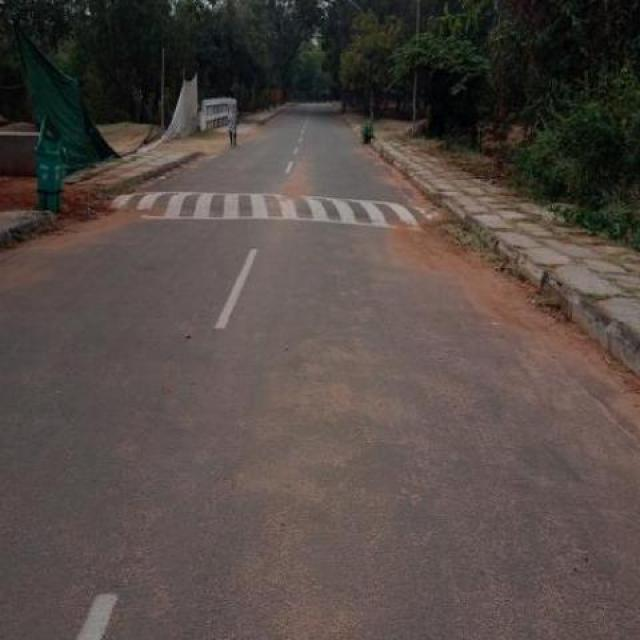Speed Bump: (112, 186, 443, 236)
